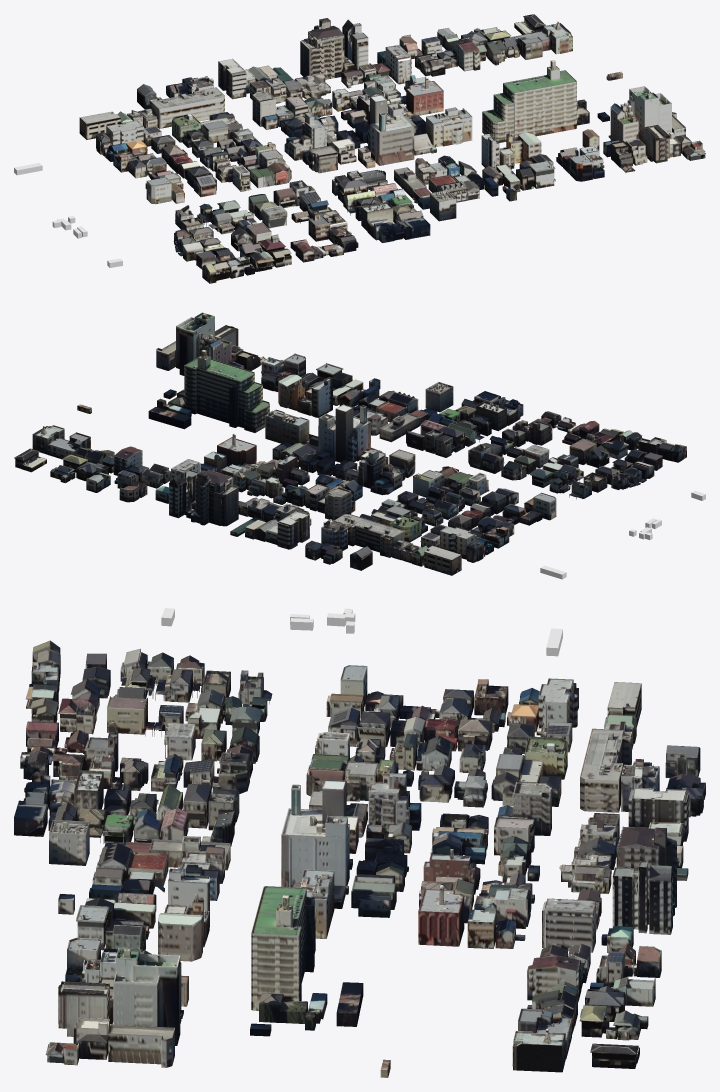
File: 2023-lod3-station-8-0-packed.glb
The picture shows the model from 3 angles, top to bottom: view 1: azimuth 30°, elevation 25°; view 2: azimuth 150°, elevation 25°; view 3: azimuth 270°, elevation 25°; orthographic projection. The views are drawn at different scales.
Size of the model in its own units: 367 by 38.59 by 232.
4 materials, 3 textured.
